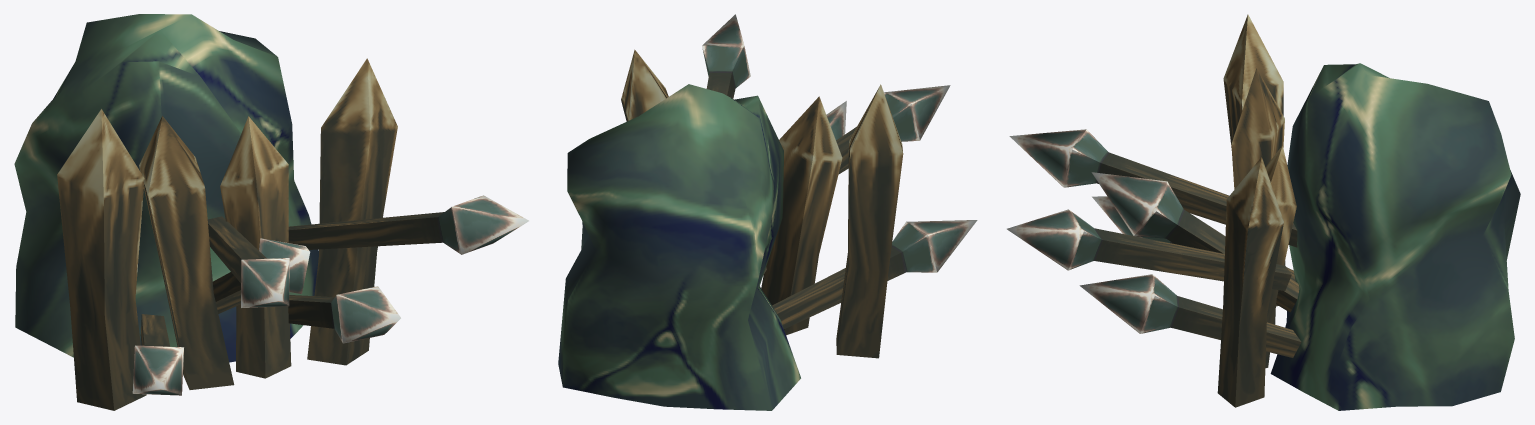
Rendered from Orc_Village_Prop_06.FBX.
The picture shows the model from 3 angles, left to right: view 1: azimuth 30°, elevation 25°; view 2: azimuth 150°, elevation 25°; view 3: azimuth 270°, elevation 25°; orthographic projection. The views are drawn at different scales.
Visible parts, largest first — view 1: Orc_Village_Prop_06; view 2: Orc_Village_Prop_06; view 3: Orc_Village_Prop_06.
Part boxes in pixels (x1,y1,x2,y2): Orc_Village_Prop_06: [14, 14, 528, 410]; Orc_Village_Prop_06: [558, 14, 977, 410]; Orc_Village_Prop_06: [1007, 14, 1520, 410].
Bounding box in the file's own units: 207 × 185 × 302.
